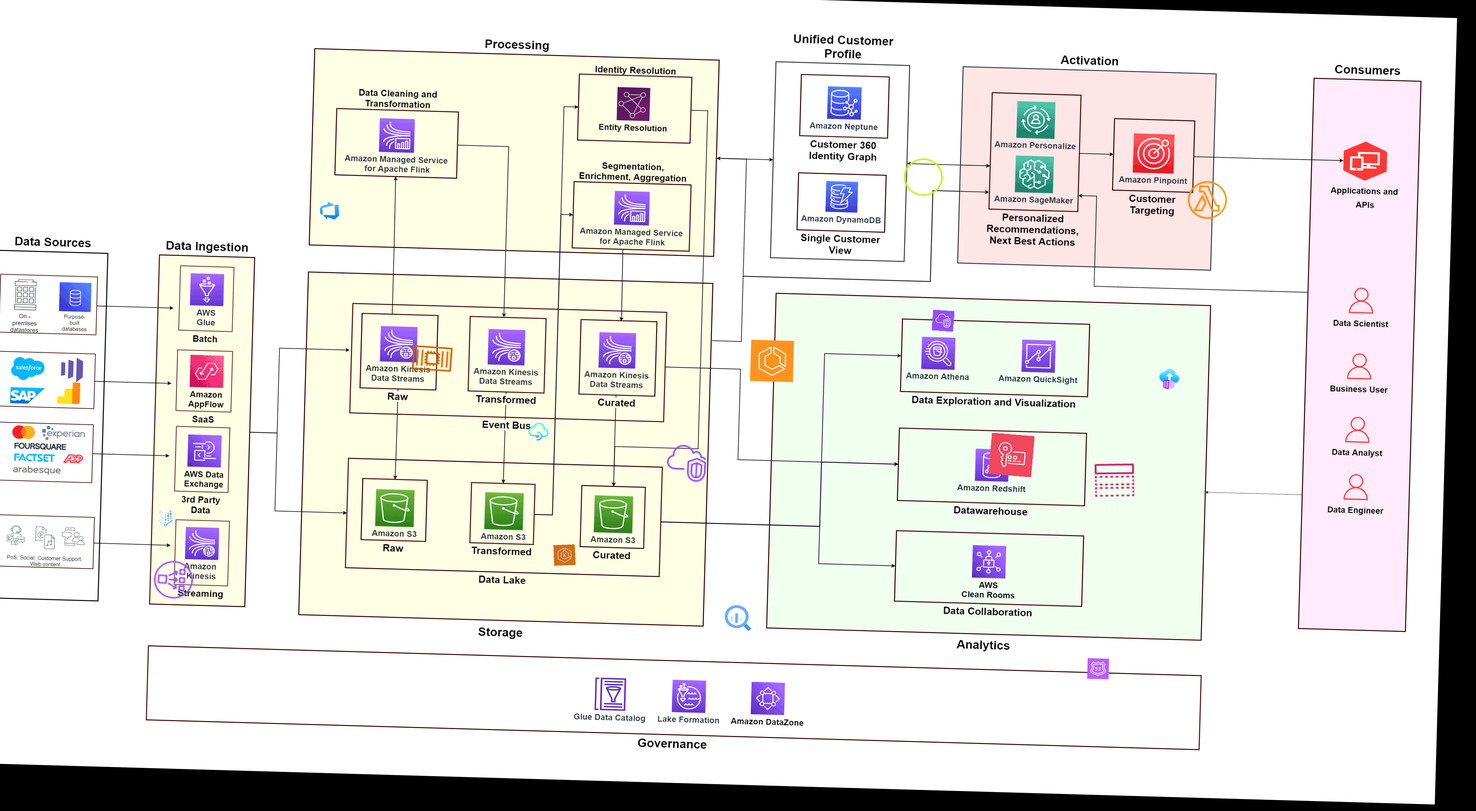aws_amazon_elastic_container_service: (749, 339, 794, 382)
aws_amazon_elastic_kubernetes_service: (552, 543, 576, 566)
aws_amazon_route_53: (1086, 658, 1109, 680)
aws_amazon_virtual_private_cloud: (931, 309, 955, 332)
aws_elastic_container_service_container_2: (409, 336, 455, 380)
aws_elastic_load_balancing_network_load_balancer: (151, 558, 196, 601)
aws_key_management_service: (988, 432, 1035, 478)
aws_lambda_lambda_function: (1185, 178, 1230, 221)
aws_simple_notification_service_topic: (1091, 458, 1137, 502)
aws_simple_storage_service_object: (901, 156, 946, 198)
aws_vpc_virtual_private_cloud_vpc: (663, 441, 709, 485)
azure_api_management_services: (527, 420, 550, 443)
azure_container_instances: (1157, 368, 1181, 390)
azure_devops: (317, 199, 341, 222)
gcp_bigquery: (721, 602, 755, 634)
gcp_vertex_ai: (154, 507, 177, 530)
